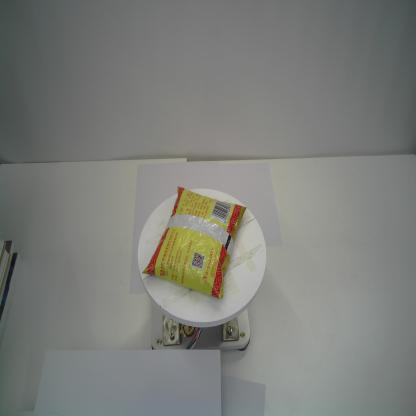Seasoner: (140, 185, 248, 300)
